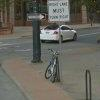Bicycle: (41, 45, 61, 87)
